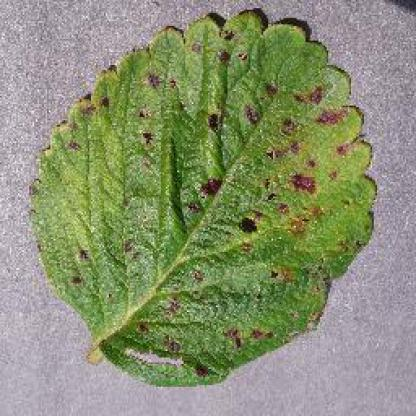leaf scorch: (31, 4, 393, 392)
